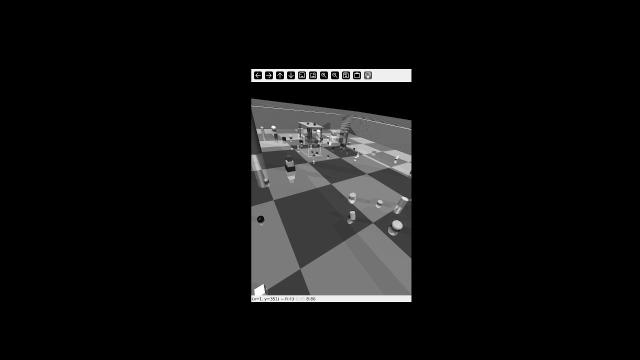cilindro: (251, 102, 263, 156), (397, 194, 407, 207), (349, 210, 359, 221), (348, 191, 359, 201), (343, 130, 350, 139), (394, 154, 401, 162), (260, 126, 265, 134), (273, 132, 278, 140), (309, 143, 313, 148), (347, 147, 350, 153), (329, 137, 333, 141), (352, 147, 356, 151), (313, 155, 315, 162), (303, 135, 305, 141), (331, 147, 334, 151), (317, 143, 319, 148), (308, 119, 310, 122)
cuadrado: (285, 155, 293, 161), (286, 160, 294, 166), (281, 135, 287, 141), (330, 130, 337, 135), (297, 128, 304, 133), (348, 141, 353, 145), (312, 122, 317, 125)
esfera: (391, 219, 404, 231), (257, 213, 266, 226), (375, 198, 385, 206), (263, 176, 270, 185), (269, 125, 278, 131), (325, 153, 331, 158), (289, 134, 294, 140), (310, 149, 315, 154), (317, 129, 321, 133), (297, 147, 301, 151), (353, 156, 358, 159), (320, 136, 323, 141), (341, 146, 344, 151), (326, 136, 330, 138), (307, 122, 309, 125), (301, 142, 303, 145)
rectangulo: (283, 165, 297, 172), (371, 149, 378, 154), (299, 139, 304, 143), (317, 134, 321, 137)
